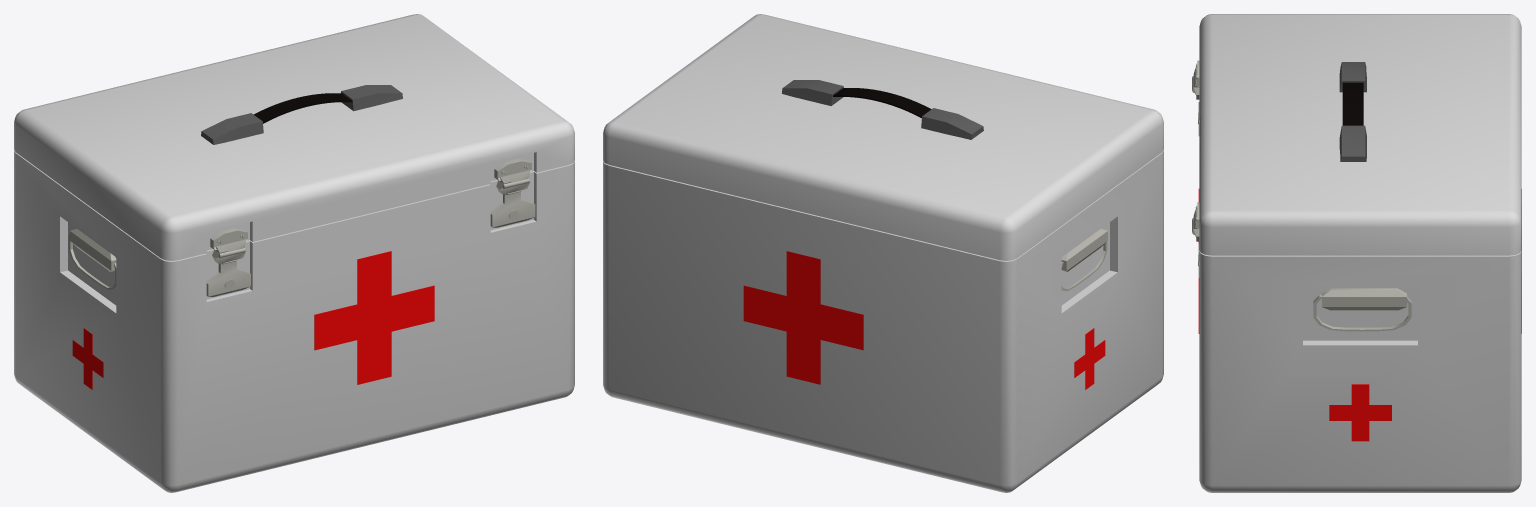
The model's file is first aid kit.fbx.
The picture shows the model from 3 angles, left to right: view 1: azimuth 30°, elevation 25°; view 2: azimuth 150°, elevation 25°; view 3: azimuth 270°, elevation 25°; orthographic projection. The views are drawn at different scales.
Visible parts, largest first — view 1: cross1; view 2: cross1; view 3: cross1.
Part boxes in pixels (x1,y1,x2,y2): cross1: (14,14,574,492); cross1: (603,14,1163,492); cross1: (1192,14,1521,492).
Size of the model in its own units: 5.07 by 3.42 by 3.43.
